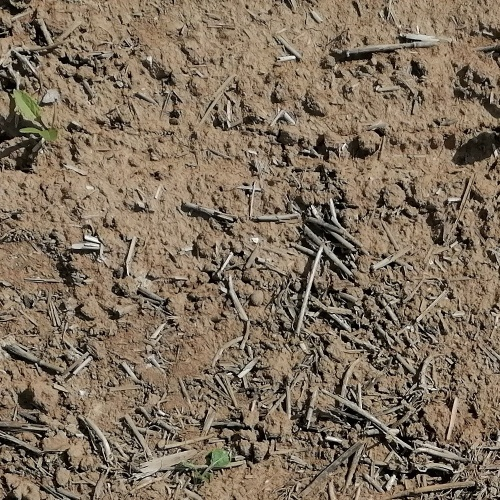beet: (13, 87, 60, 144)
